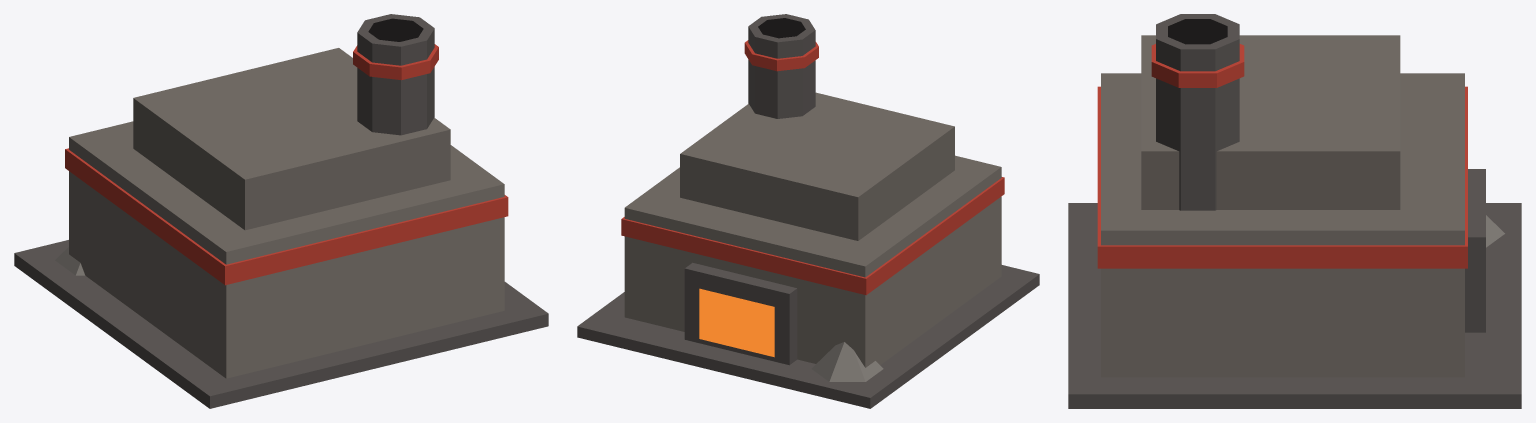
File: smelter.glb
3 views of the same model, side by side, from view 1: azimuth 30°, elevation 25°; view 2: azimuth 150°, elevation 25°; view 3: azimuth 270°, elevation 25° (orthographic). The views are drawn at different scales.
Visible parts, largest first — view 1: smelter; view 2: smelter; view 3: smelter.
Part boxes in pixels (left/top/right/bottom): smelter: left=14, top=14, right=548, bottom=408; smelter: left=577, top=14, right=1039, bottom=408; smelter: left=1068, top=14, right=1521, bottom=408.
Bounding box in the file's own units: 2.8 × 2.2 × 2.8.
